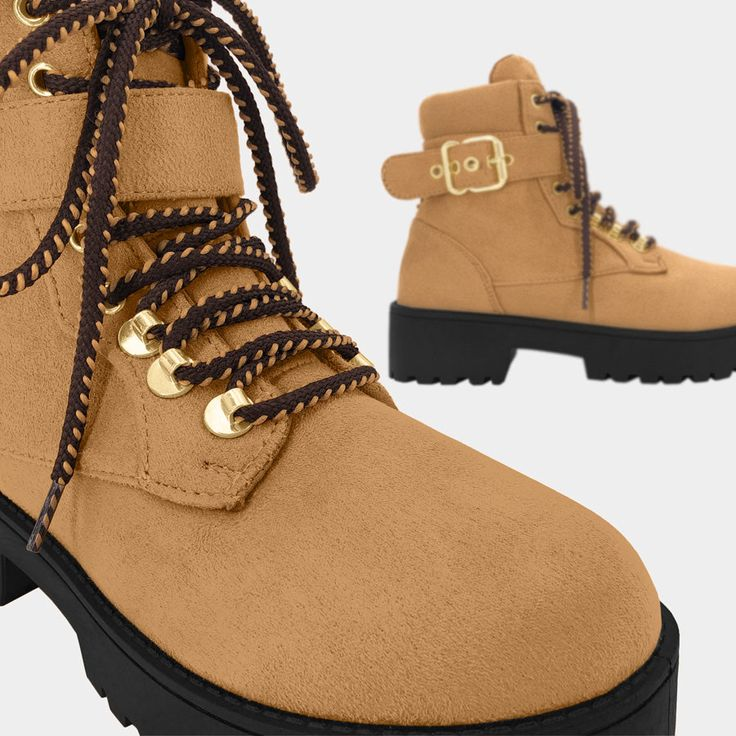gamuza: (2, 1, 736, 728)
